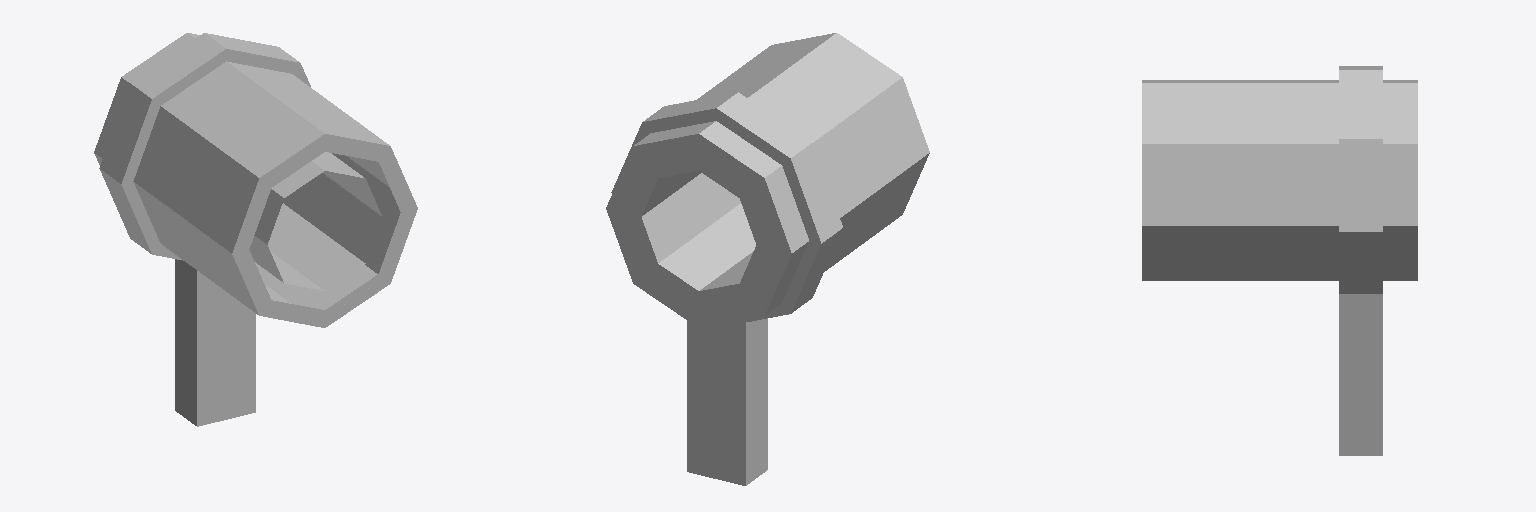
File: pipeStandStraightLinerEnd.obj
The picture shows the model from 3 angles: view 1: azimuth 30°, elevation 25°; view 2: azimuth 150°, elevation 25°; view 3: azimuth 270°, elevation 25°; orthographic projection.
Parts seen in each view (by area): view 1: pipeStandStraightLinerEnd; view 2: pipeStandStraightLinerEnd; view 3: pipeStandStraightLinerEnd.
Boxes of the visible parts, <box> form: pipeStandStraightLinerEnd: <box>94,33,417,426</box>; pipeStandStraightLinerEnd: <box>606,33,929,485</box>; pipeStandStraightLinerEnd: <box>1142,66,1417,455</box>.
Bounding box in the file's own units: 5.53 × 9.33 × 6.3.